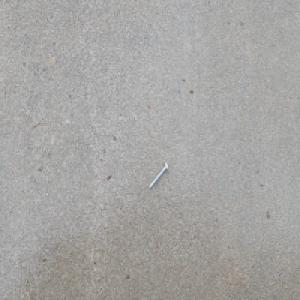Nail: (146, 160, 167, 190)
